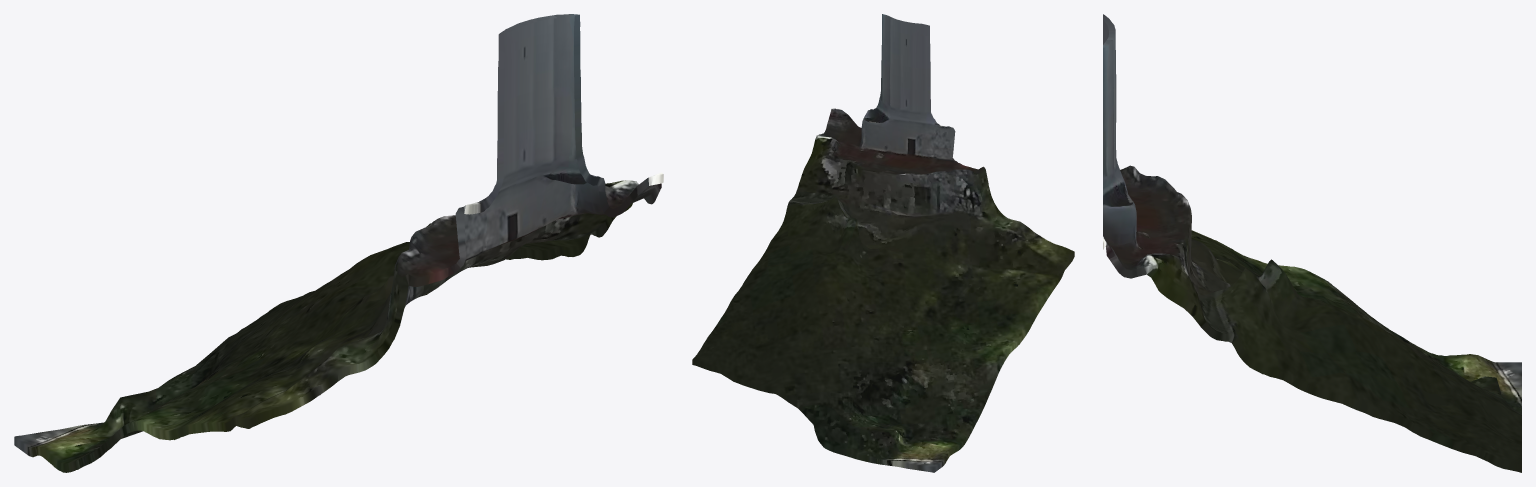
Rendered from z20-167754-405195-h0-yup-uvflip-v3-world.glb.
3 views of the same model, side by side, from view 1: azimuth 30°, elevation 25°; view 2: azimuth 150°, elevation 25°; view 3: azimuth 270°, elevation 25° (orthographic). The views are drawn at different scales.
Bounding box in the file's own units: 30.16 × 37.48 × 30.32.
1 material, 1 textured.
